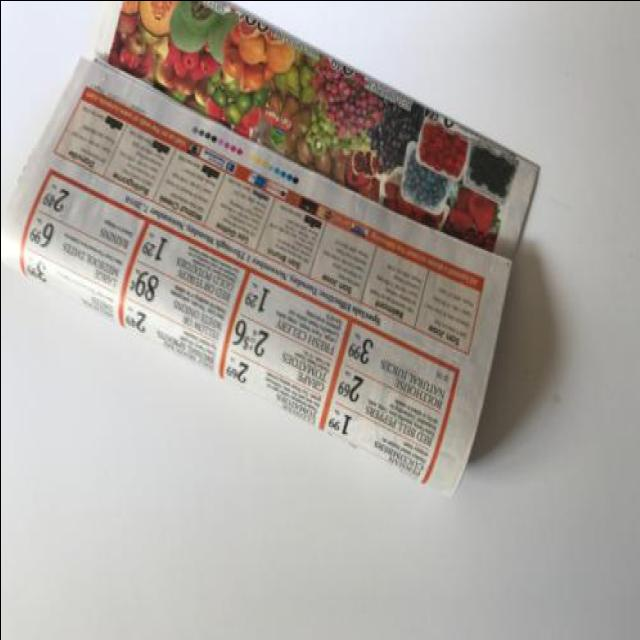kertas: (0, 0, 539, 501)
